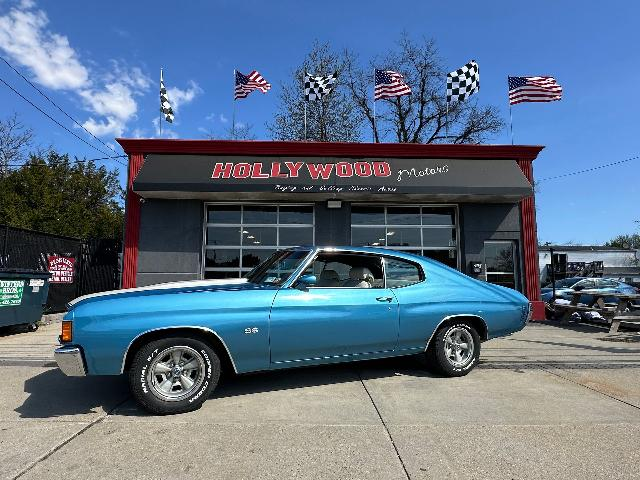chevelle-1972: (55, 245, 533, 414)
